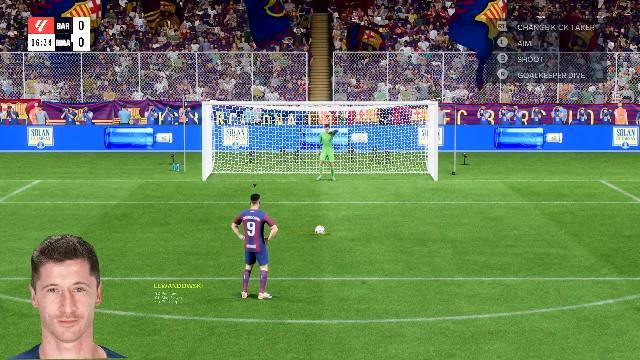bottom-left: (206, 149, 286, 181)
bottom-right: (361, 148, 434, 180)
center-down: (288, 150, 360, 180)
center-up: (288, 106, 358, 148)
circle: (312, 232, 330, 234)
football: (314, 227, 326, 235)
goalkeeper: (303, 124, 353, 182)
player: (228, 196, 280, 300)
top-left: (208, 105, 286, 146)
top-right: (360, 106, 432, 148)
